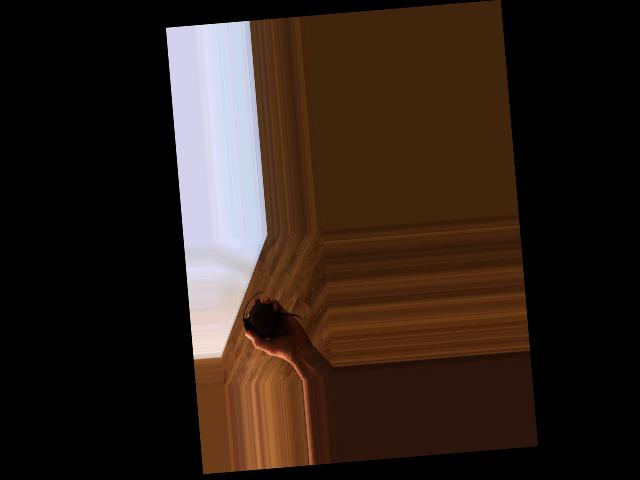beet: (240, 288, 303, 339)
